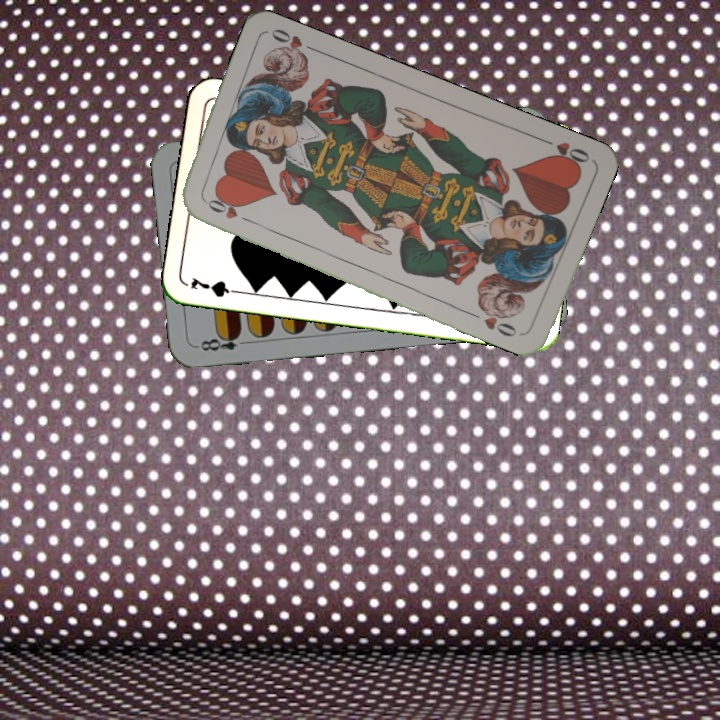E8: (193, 328, 252, 353)
G7: (187, 273, 245, 300)
HO: (537, 134, 593, 171), (200, 195, 256, 227)
